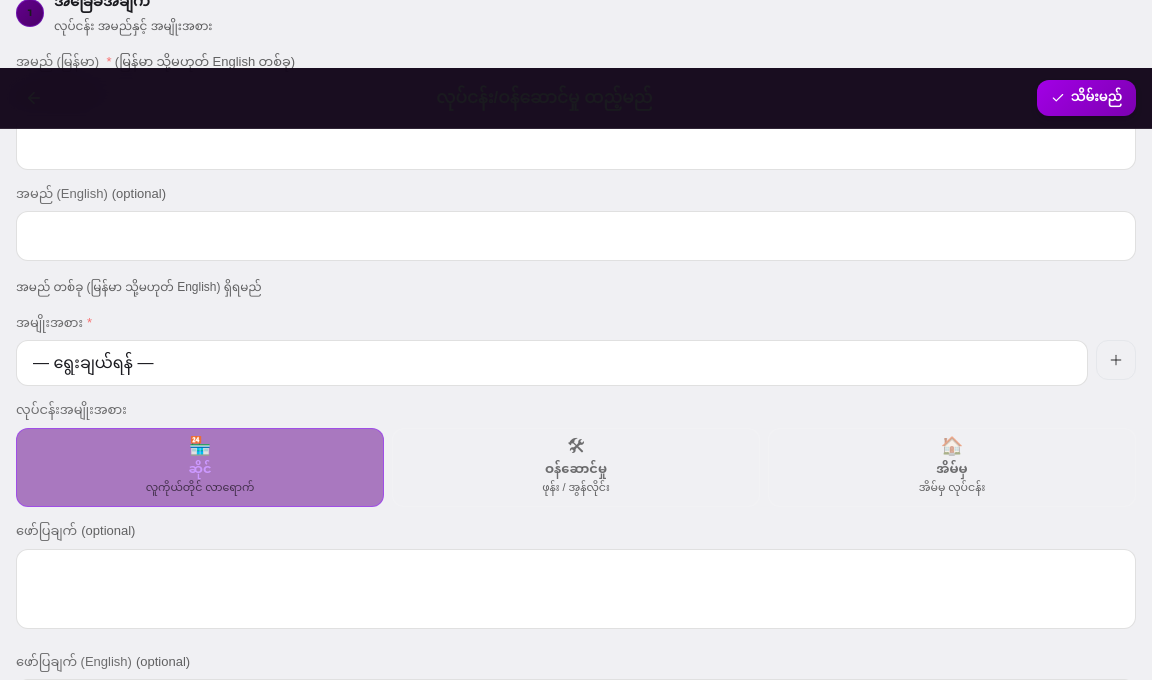
Scenario: v9.40 (D) SUBMIT PICKER — a level-3 category is pickable and submittable › on-the-fly category creation invalidates the shared category queries
The width and height of the screenshot is (1152, 680).
(page scrolled)
Expected: the dropdown is shown, [16,340,1088,386]
# Open the quick-add modal (+ button beside the picker).
Click the button titled "Category အသစ်ထည့်မည်": point(1116, 360) [1096,340,1136,380]
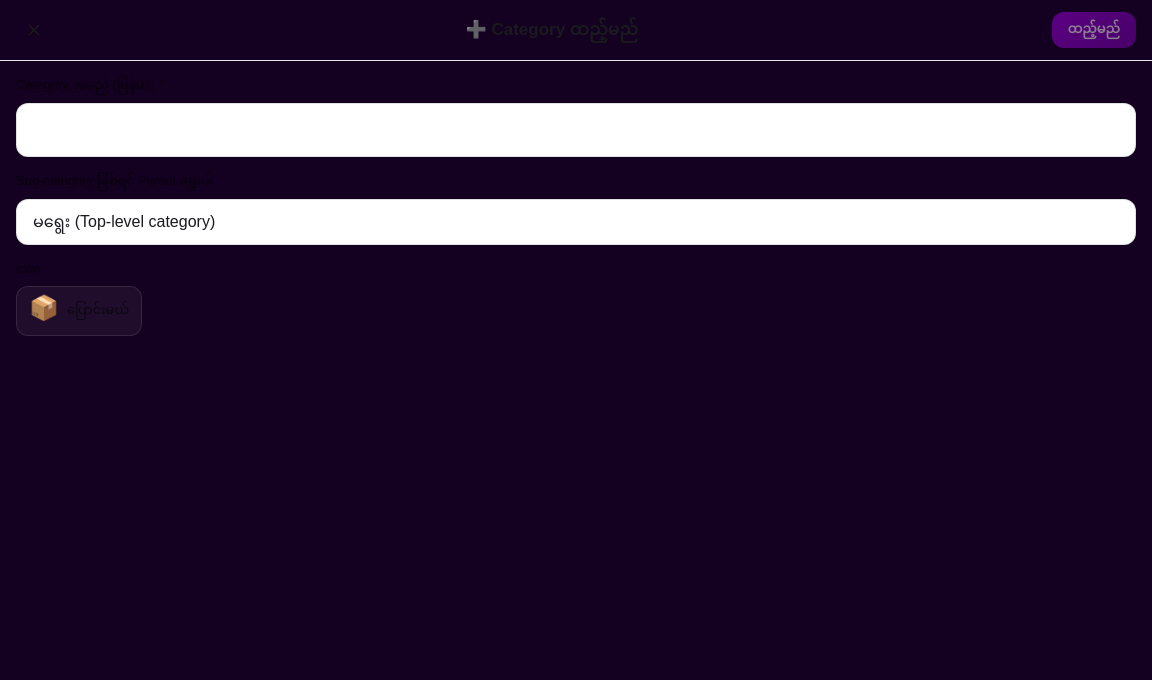
In the field with placeholder "ဥပမာ: Freelance, အဝတ်လျှော်, Construction": point(576, 130) [16,102,1136,157], type "စမ်းသပ်အမျိုးအစား"
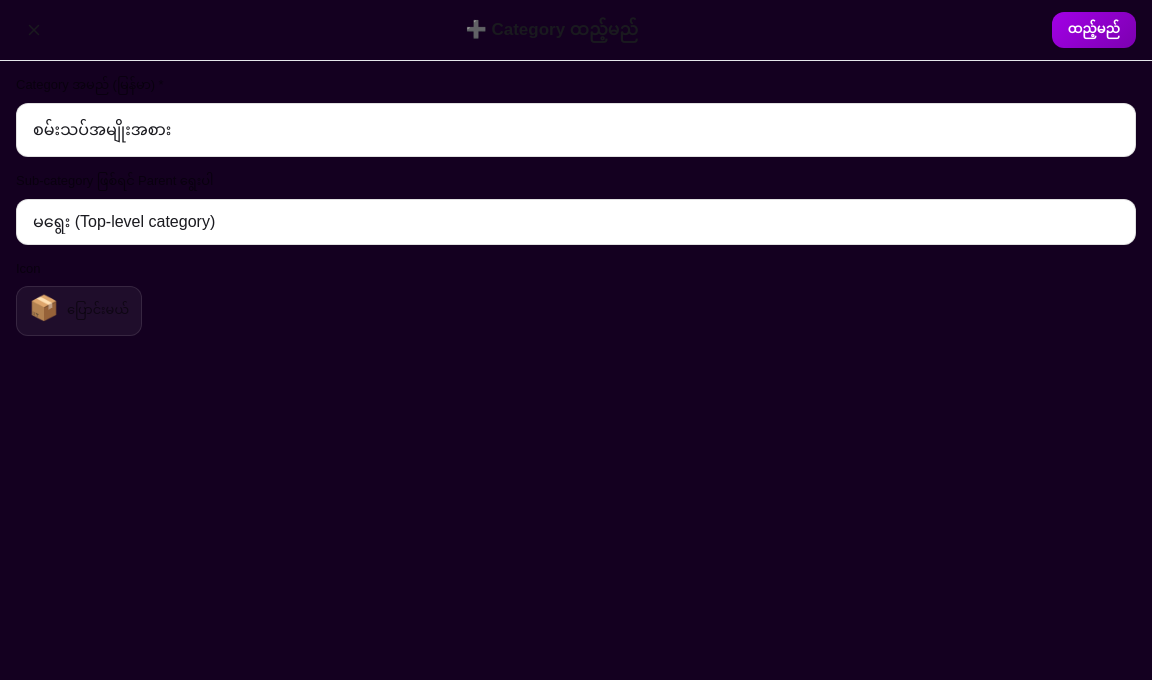
# The modal header's save button.
Click the button "ထည့်မည်": point(1094, 30) [1052,12,1136,48]
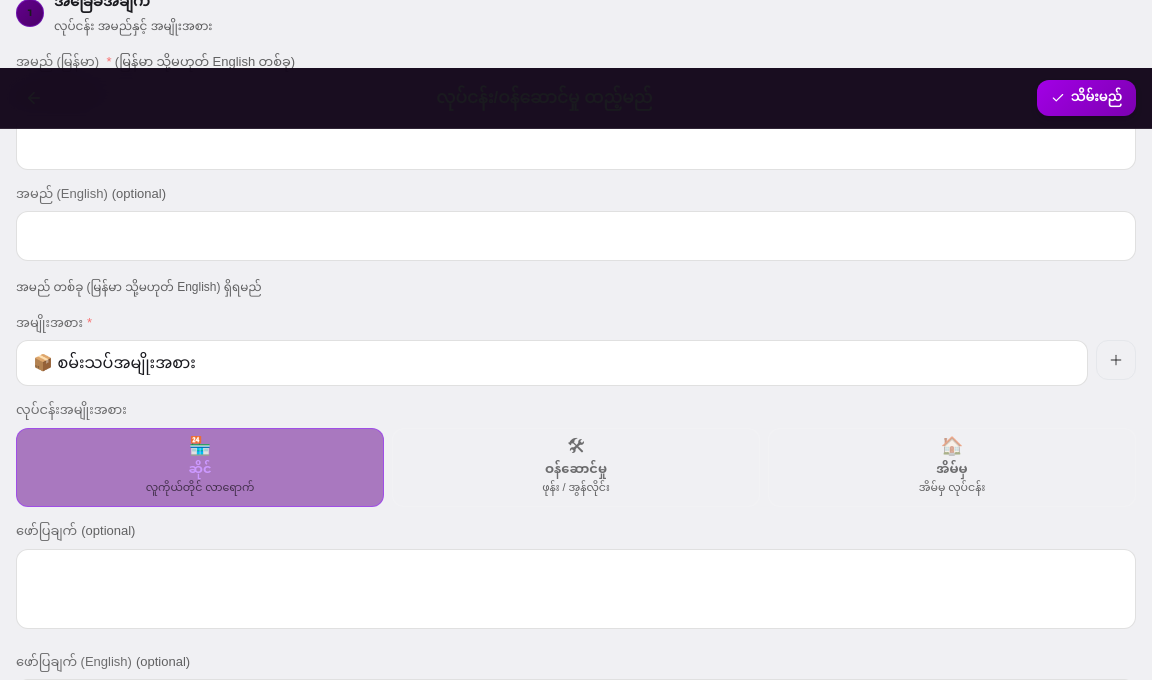
Expected: the dropdown shows "📦 စမ်းသပ်အမျိုးအစား", [16,340,1088,386]
